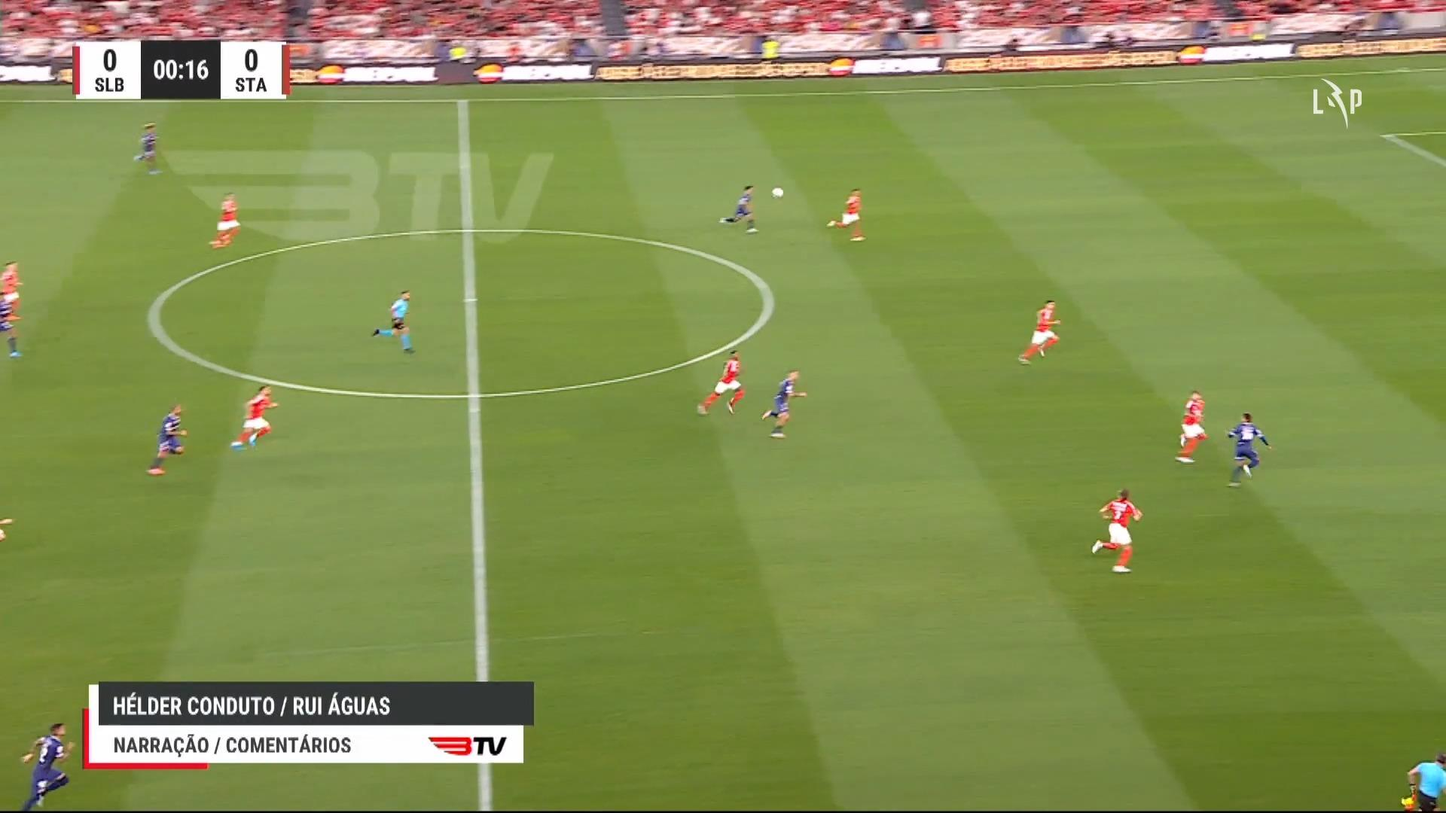ball: (770, 187, 783, 199)
player: (20, 721, 75, 811), (1090, 487, 1142, 573), (1225, 411, 1271, 488), (695, 349, 745, 416), (230, 384, 279, 449), (761, 369, 807, 438), (145, 403, 188, 475), (1017, 299, 1061, 364), (1401, 751, 1444, 811), (1173, 390, 1207, 463), (0, 260, 23, 358), (826, 187, 866, 241), (718, 184, 758, 233), (208, 191, 240, 248), (133, 121, 161, 175)
referee: (371, 290, 416, 354)
